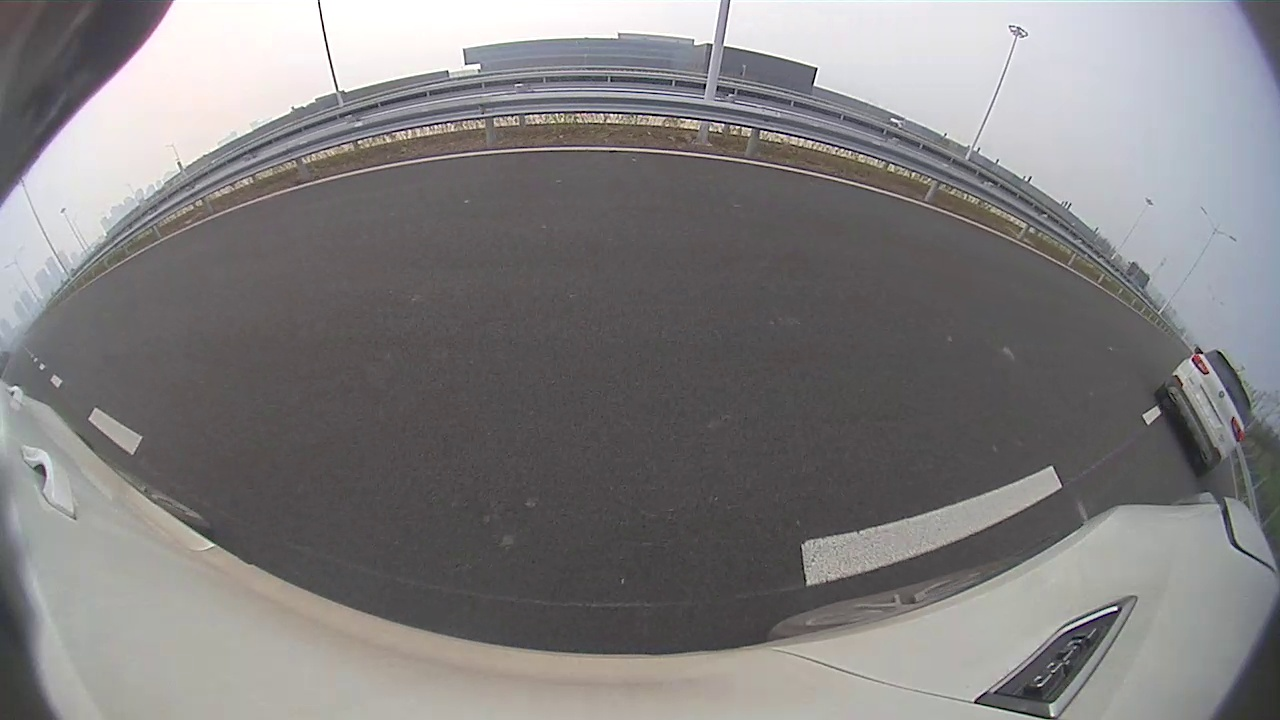car: (1153, 346, 1255, 477)
